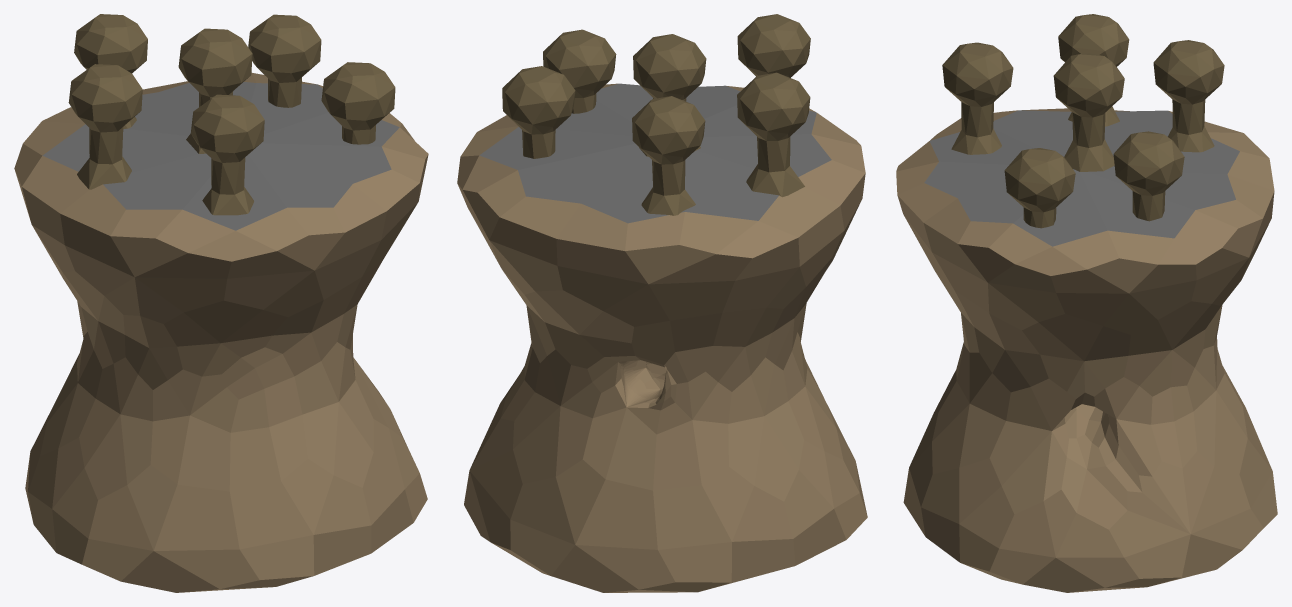
Rendered from ErrodedForest1.fbx.
The picture shows the model from 3 angles, left to right: view 1: azimuth 30°, elevation 25°; view 2: azimuth 150°, elevation 25°; view 3: azimuth 270°, elevation 25°; orthographic projection. The views are drawn at different scales.
Visible parts, largest first — view 1: Cylinder.001, Cylinder.002, Cylinder.006, Cylinder.005, Cylinder.004, Cylinder.007, Cylinder.003; view 2: Cylinder.001, Cylinder.002, Cylinder.003, Cylinder.005, Cylinder.007, Cylinder.004, Cylinder.006; view 3: Cylinder.001, Cylinder.007, Cylinder.006, Cylinder.003, Cylinder.005, Cylinder.004, Cylinder.002.
Boxes of the visible parts, left/top/right/bottom form: Cylinder.001: left=14, top=73, right=428, bottom=592; Cylinder.002: left=68, top=64, right=142, bottom=189; Cylinder.006: left=190, top=94, right=264, bottom=215; Cylinder.005: left=248, top=14, right=321, bottom=107; Cylinder.004: left=321, top=62, right=395, bottom=144; Cylinder.007: left=178, top=28, right=252, bottom=153; Cylinder.003: left=74, top=14, right=147, bottom=129; Cylinder.001: left=457, top=83, right=867, bottom=592; Cylinder.002: left=737, top=72, right=810, bottom=197; Cylinder.003: left=632, top=96, right=705, bottom=215; Cylinder.005: left=502, top=66, right=575, bottom=158; Cylinder.007: left=633, top=34, right=706, bottom=156; Cylinder.004: left=543, top=29, right=616, bottom=113; Cylinder.006: left=737, top=14, right=810, bottom=77; Cylinder.001: left=896, top=108, right=1277, bottom=592; Cylinder.007: left=1053, top=53, right=1124, bottom=171; Cylinder.006: left=942, top=42, right=1013, bottom=154; Cylinder.003: left=1153, top=40, right=1224, bottom=152; Cylinder.005: left=1113, top=131, right=1184, bottom=221; Cylinder.004: left=1004, top=148, right=1075, bottom=228; Cylinder.002: left=1058, top=14, right=1129, bottom=126.
Size of the model in its own units: 2513 by 3367 by 2479.
